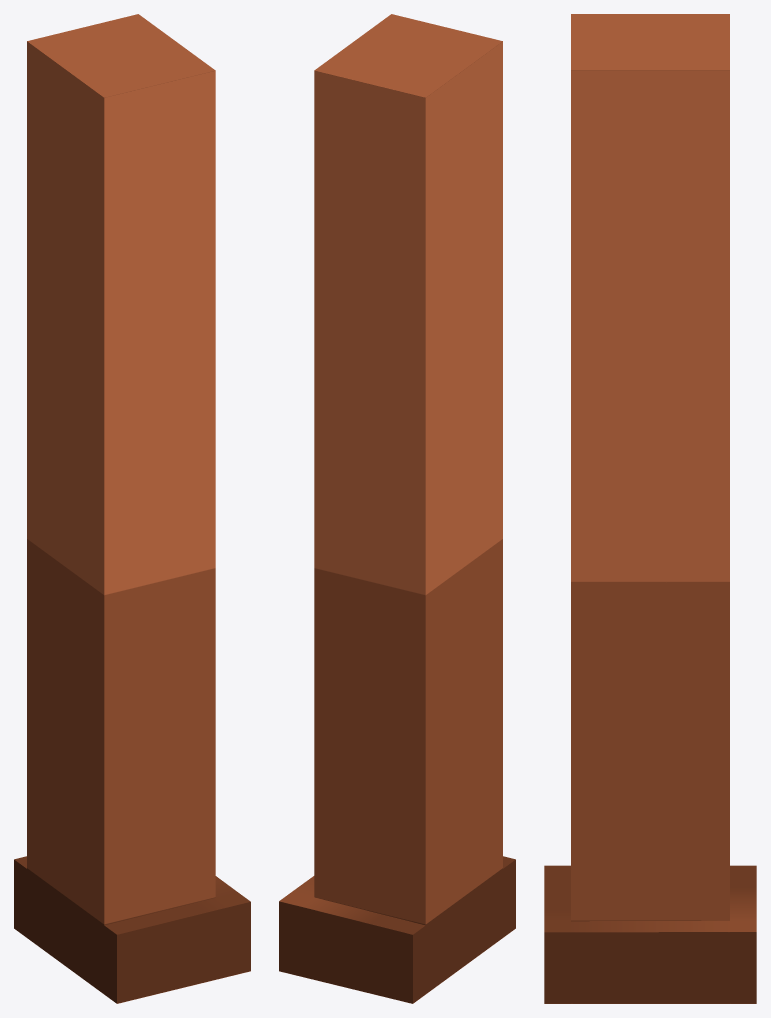
File: wall-pillar.fbx
The picture shows the model from 3 angles, left to right: view 1: azimuth 30°, elevation 25°; view 2: azimuth 150°, elevation 25°; view 3: azimuth 270°, elevation 25°; orthographic projection. The views are drawn at different scales.
Visible parts, largest first — view 1: Plane; view 2: Plane; view 3: Plane.
Boxes of the visible parts, bbox=[...] form: Plane: bbox=[14, 14, 250, 1003]; Plane: bbox=[279, 14, 515, 1003]; Plane: bbox=[544, 14, 756, 1003].
Size of the model in its own units: 120 by 768 by 160.
